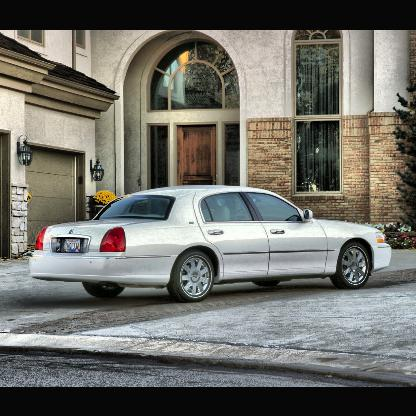Lincoln Town Car Sedan 2011: (24, 178, 394, 307)
